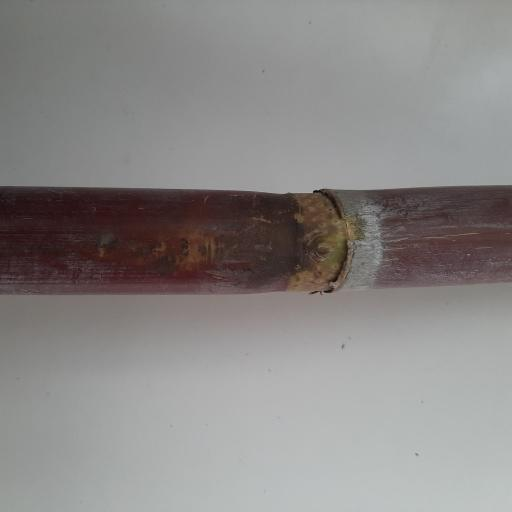Bud: (306, 237, 341, 260)
